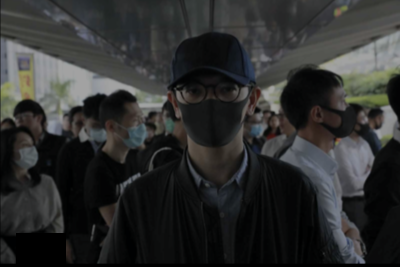with_mask: (179, 75, 249, 145), (323, 91, 359, 139), (116, 111, 148, 147), (12, 137, 39, 170), (87, 119, 108, 143), (356, 113, 370, 139), (249, 118, 264, 137)
without_mask: (16, 111, 38, 135)
